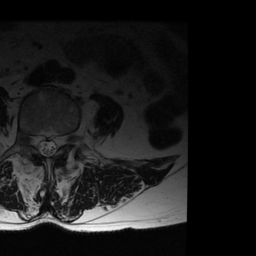CCS_normal: (43, 128, 50, 161)
LFS_normal: (59, 126, 68, 151)
LLS_normal: (50, 128, 59, 157)
RFS_normal: (27, 125, 36, 154)
RLS_normal: (35, 128, 43, 157)
